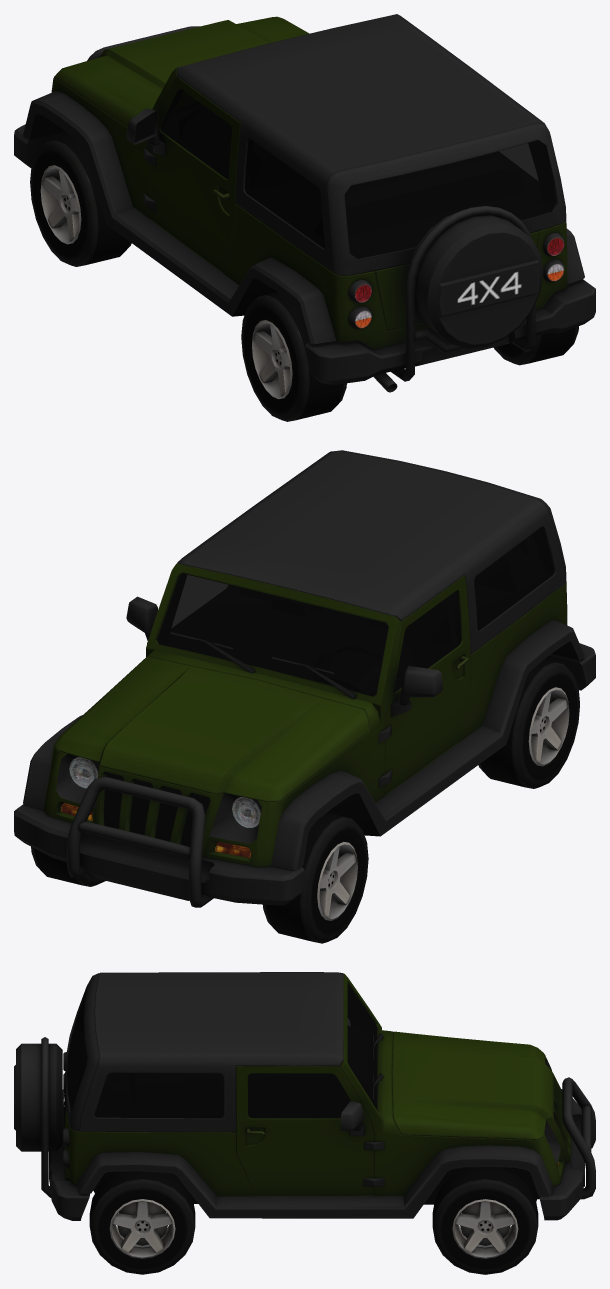
The model's file is offroad.glb.
3 views of the same model, one above another, from view 1: azimuth 30°, elevation 25°; view 2: azimuth 150°, elevation 25°; view 3: azimuth 270°, elevation 25° (orthographic). The views are drawn at different scales.
Visible parts, largest first — view 1: Body, Wheel_FL, Wheel_RL, Wheel_RR; view 2: Body, Wheel_FL, Wheel_RL, Wheel_FR; view 3: Body, Wheel_FR, Wheel_RR.
Boxes of the visible parts, x1,y1,x2,y2 form: Body: (14, 14, 595, 392); Wheel_FL: (30, 136, 131, 266); Wheel_RL: (241, 292, 346, 421); Wheel_RR: (493, 326, 578, 365); Body: (14, 450, 595, 907); Wheel_FL: (263, 812, 368, 943); Wheel_RL: (478, 659, 579, 788); Wheel_FR: (31, 846, 105, 886); Body: (14, 972, 595, 1220); Wheel_FR: (432, 1167, 538, 1274); Wheel_RR: (89, 1171, 195, 1274).
Size of the model in its own units: 1.96 by 1.57 by 3.94.
Materials: 4 (3 with a texture image).
